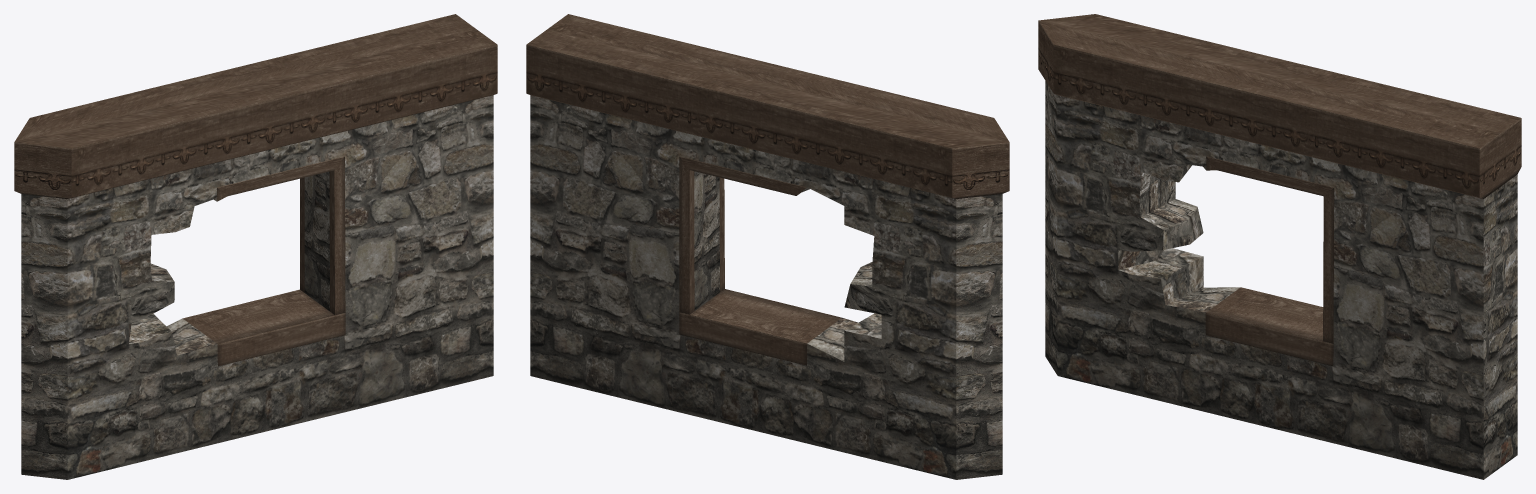
File: House_Stone_Wall_Window_Upper_Dmg.dae
3 views of the same model, side by side, from view 1: azimuth 30°, elevation 25°; view 2: azimuth 150°, elevation 25°; view 3: azimuth 330°, elevation 25° (orthographic).
Parts seen in each view (by area): view 1: StoneWindowUpperDmg; view 2: StoneWindowUpperDmg; view 3: StoneWindowUpperDmg.
Part boxes in pixels (x1,y1,x2,y2): StoneWindowUpperDmg: (14, 14, 497, 479); StoneWindowUpperDmg: (526, 14, 1009, 479); StoneWindowUpperDmg: (1038, 14, 1521, 479).
Size of the model in its own units: 4.34 by 3.06 by 0.68.
1 material, 1 textured.
